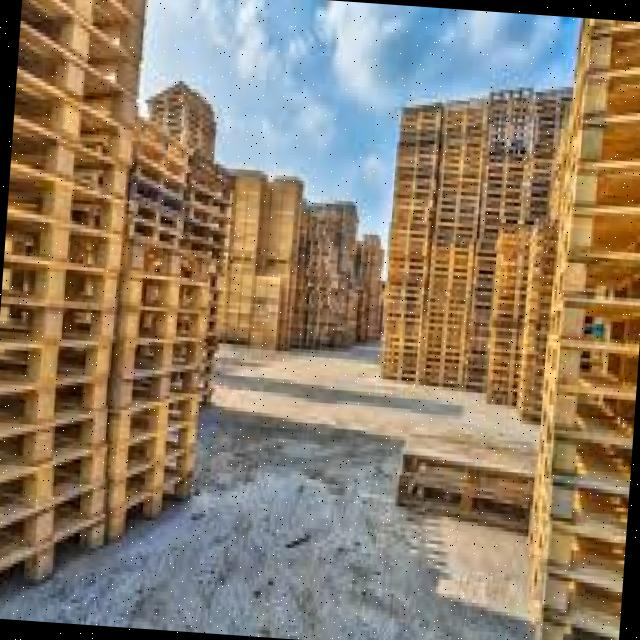Wooden-Pallets: (0, 444, 115, 533), (107, 466, 200, 551), (0, 292, 117, 346), (110, 393, 209, 454), (128, 263, 220, 317)
